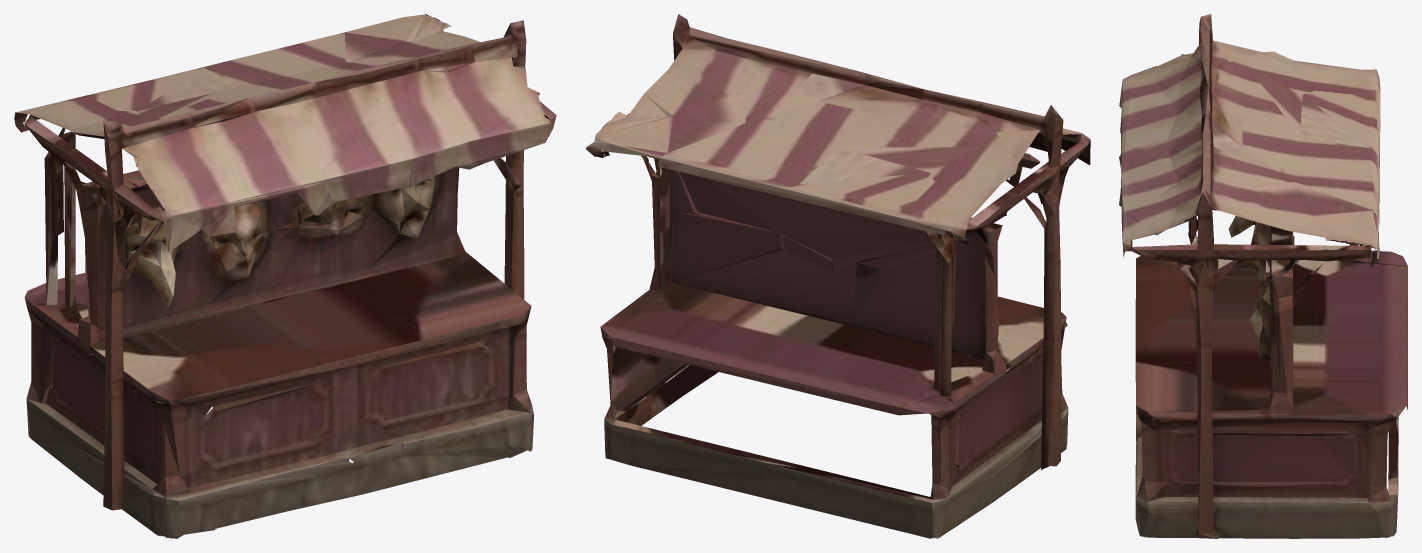
File: park_mask_stall_1117.glb
3 views of the same model, side by side, from view 1: azimuth 30°, elevation 25°; view 2: azimuth 150°, elevation 25°; view 3: azimuth 270°, elevation 25° (orthographic). The views are drawn at different scales.
Parts seen in each view (by area): view 1: world; view 2: world; view 3: world.
Boxes of the visible parts, left/top/right/bottom form: world: left=14, top=14, right=556, bottom=538; world: left=585, top=14, right=1090, bottom=538; world: left=1119, top=14, right=1407, bottom=538.
Bounding box in the file's own units: 1.1 × 1 × 0.7347.
1 material, 1 textured.
